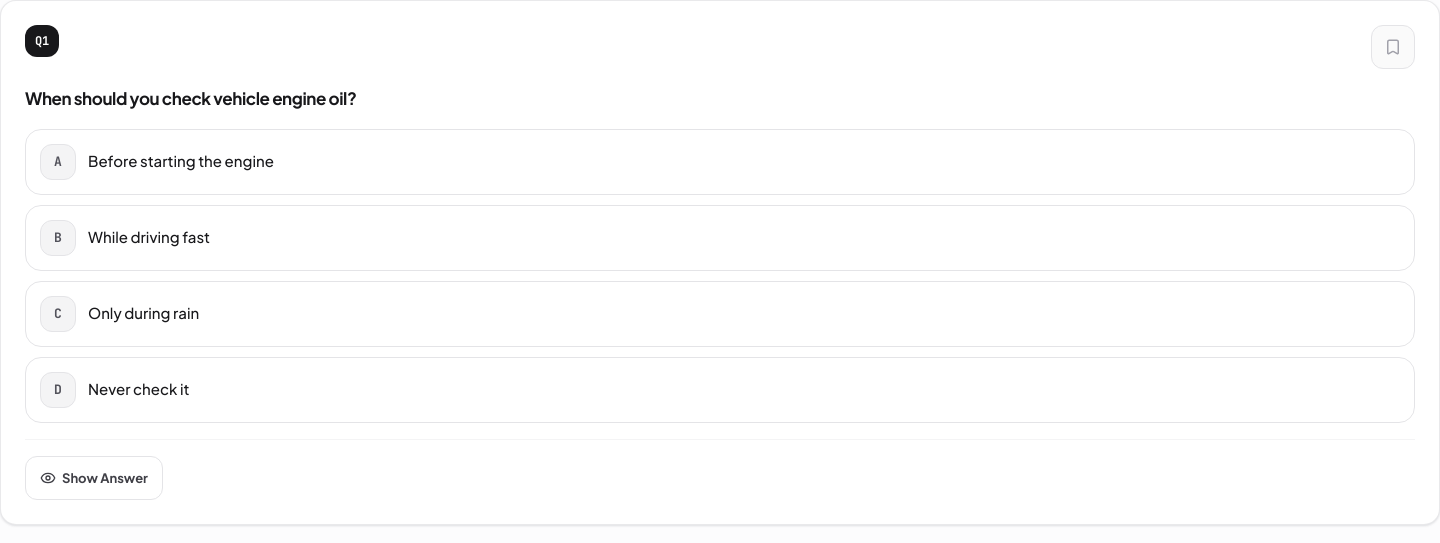
Scenario: QuestionCard Component › provides feedback when selecting incorrect answer and highlights correct answer
The width and height of the screenshot is (1440, 543).
Option B is incorrect
Click the text "While driving fast" at (149, 237), box [88,227,210,246]
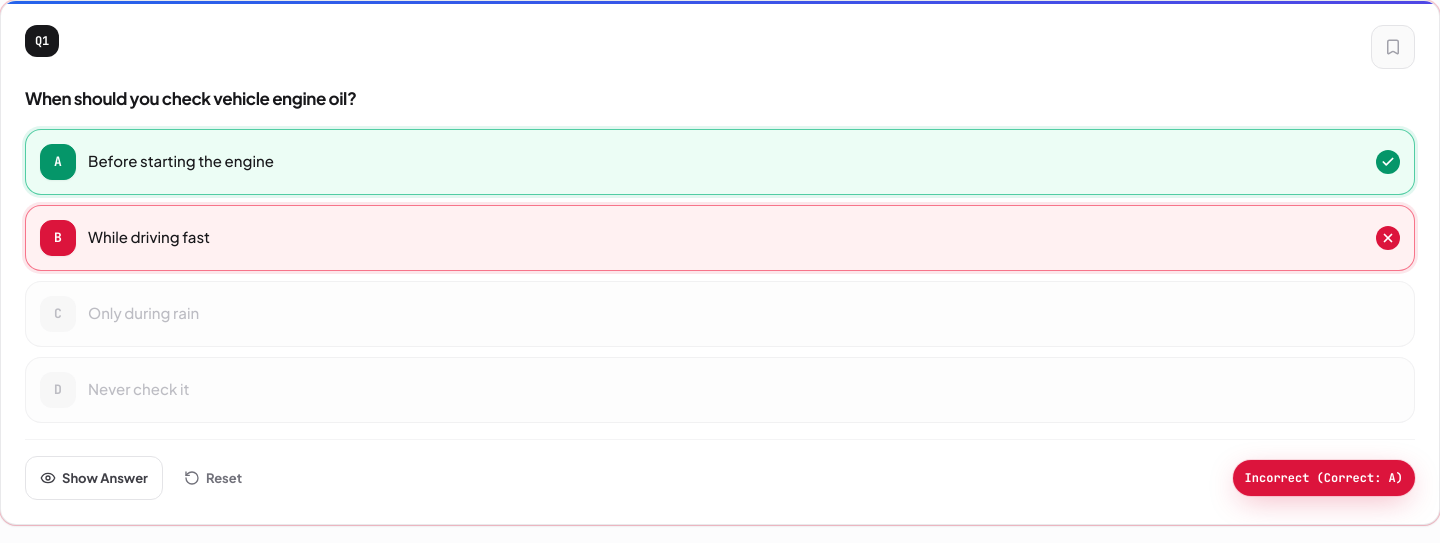
Now the text "Incorrect (Correct: A)" is shown, box [1245,466,1403,490]
